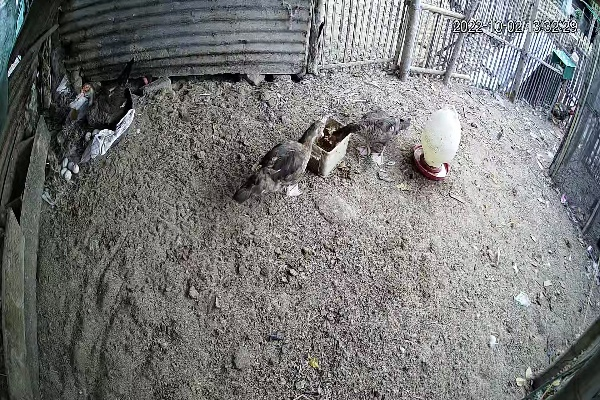Entog: (230, 114, 330, 212), (321, 98, 421, 165), (546, 97, 578, 123)
